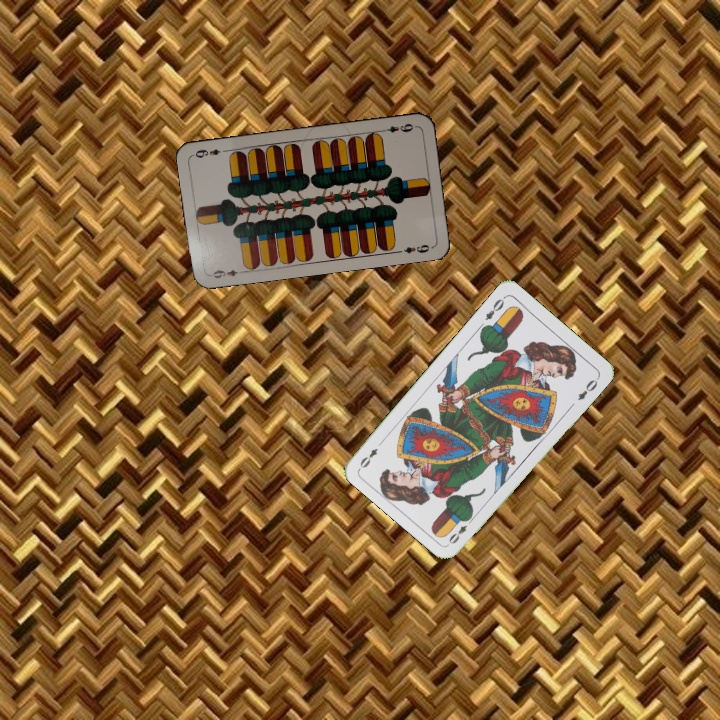E9: (378, 119, 418, 135), (206, 266, 247, 281)
EO: (445, 513, 476, 547), (481, 293, 508, 323)
